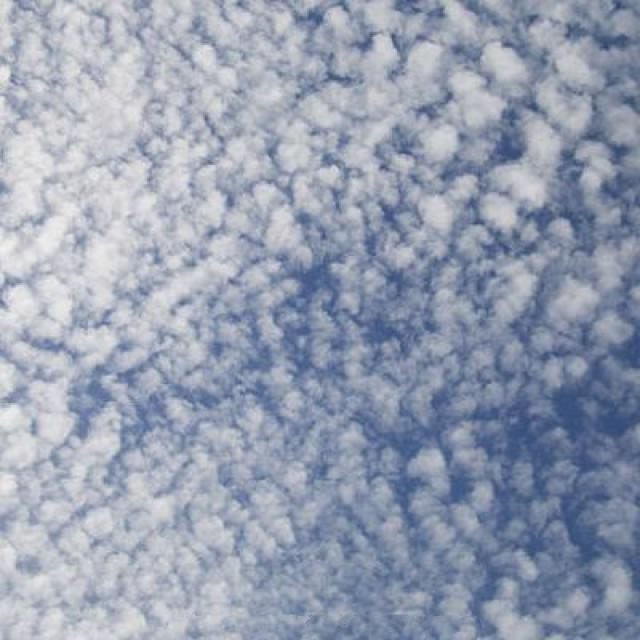Cs: (2, 102, 640, 559)
